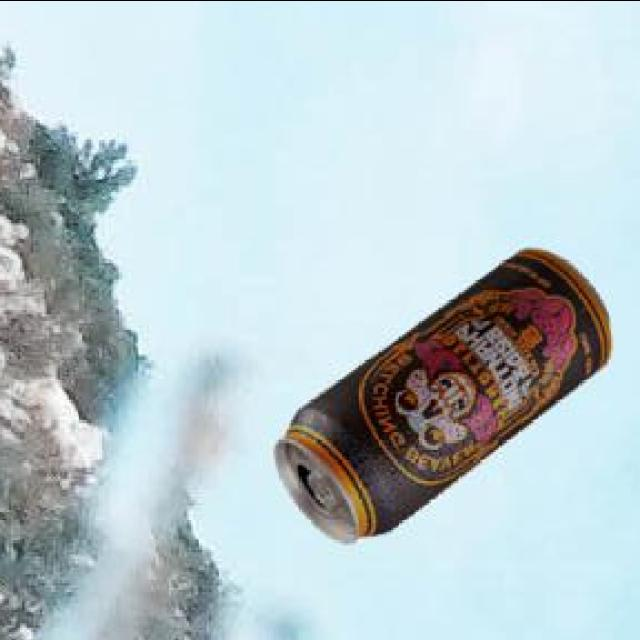logam: (279, 252, 614, 546)
